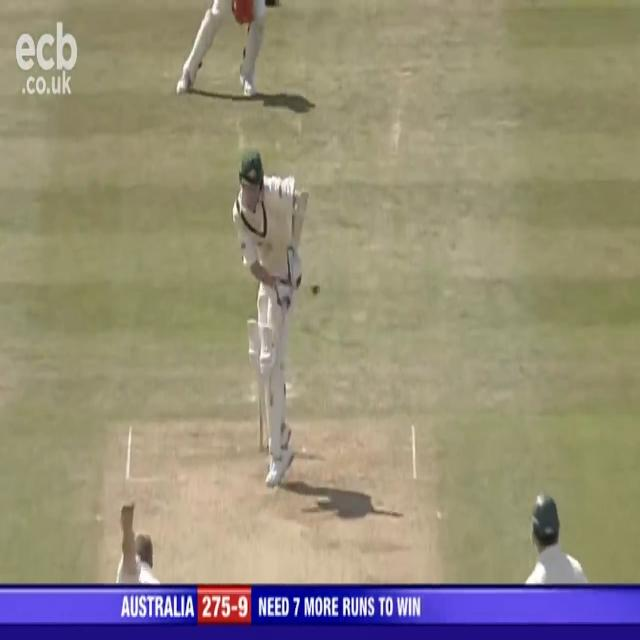ball: (308, 278, 322, 300)
